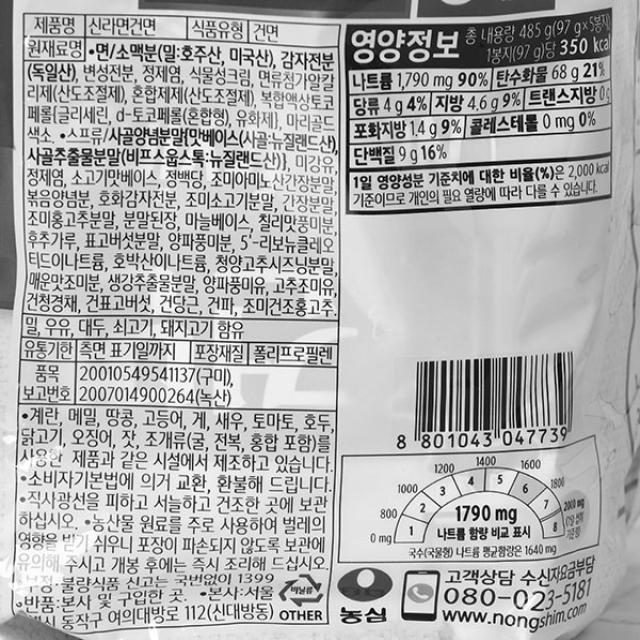Nutrition Label: (343, 3, 619, 219)
